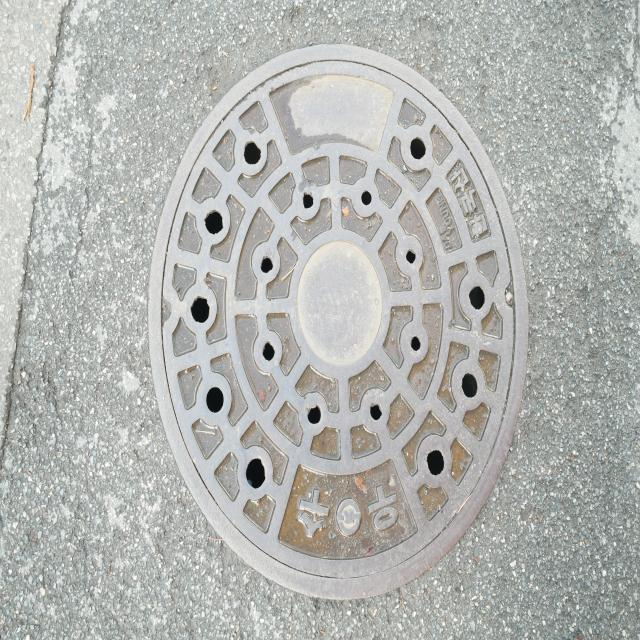manhole: (150, 45, 528, 598)
